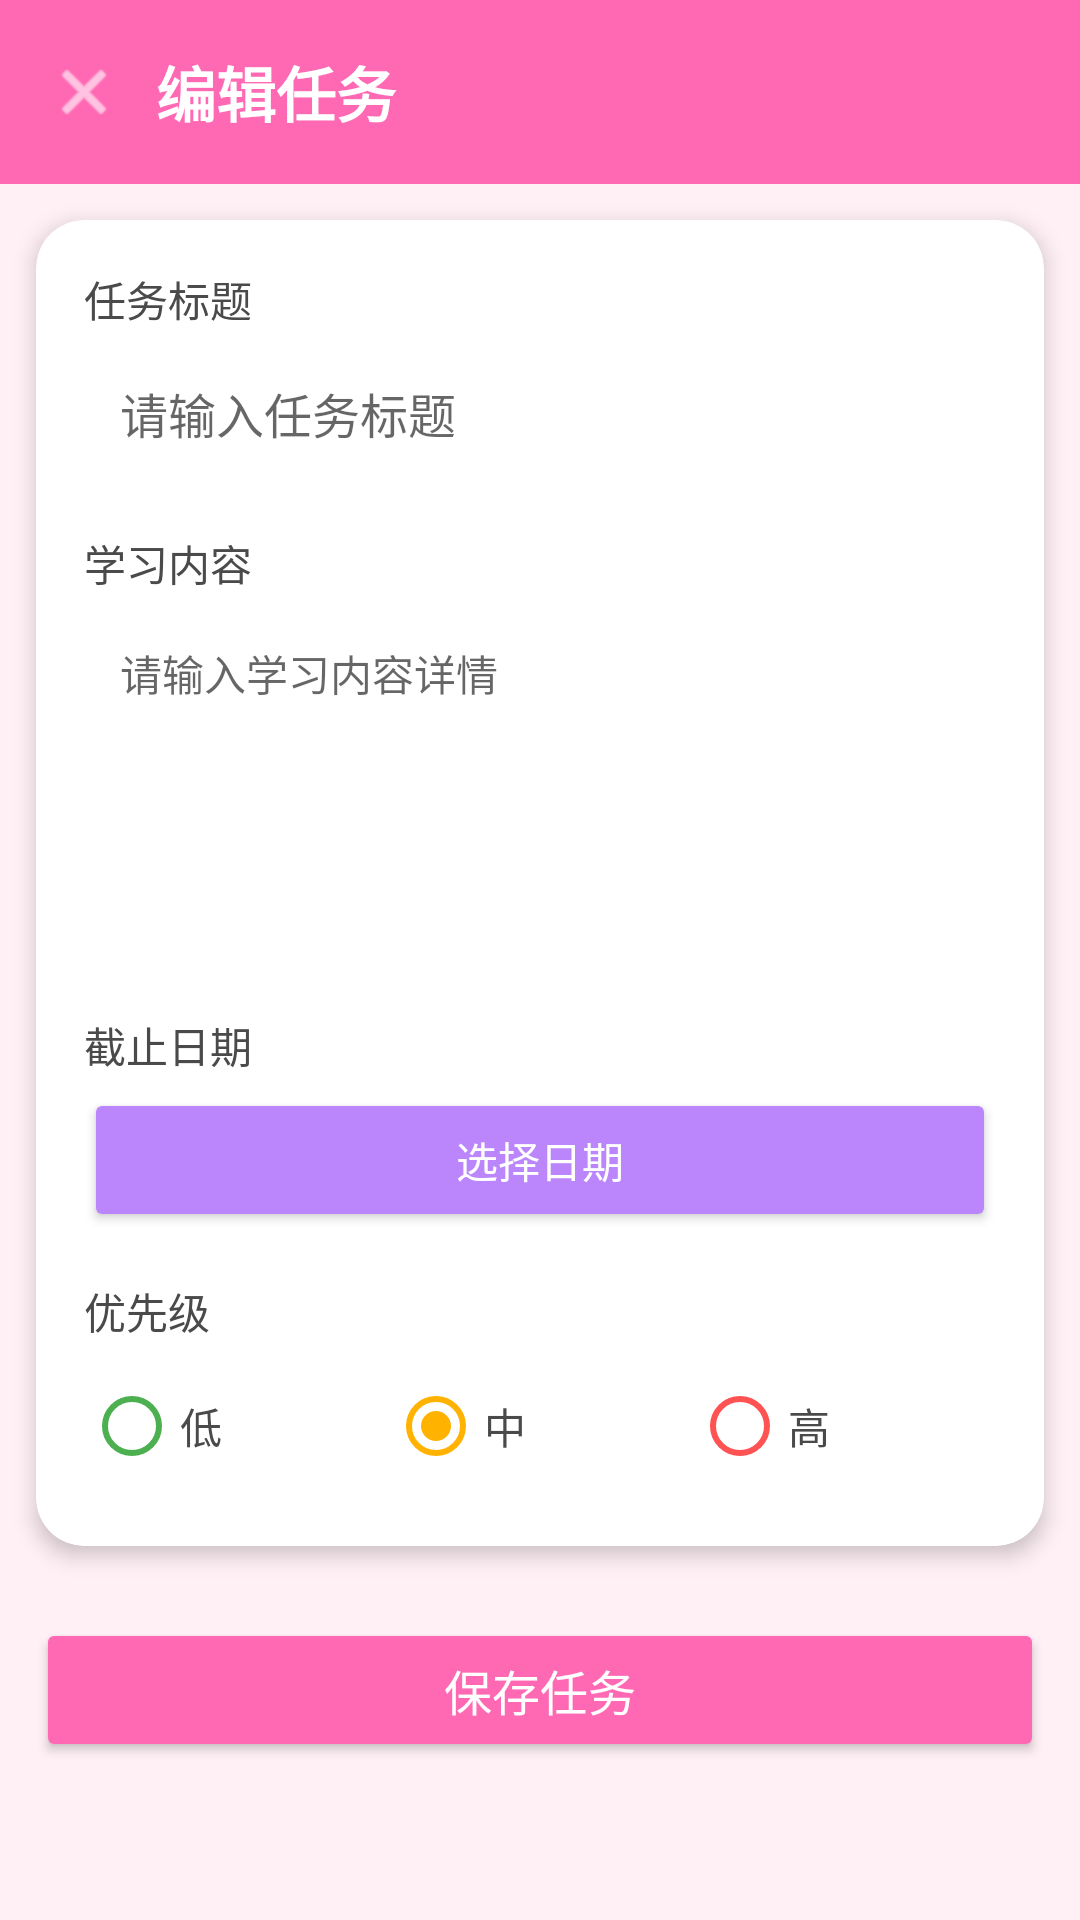

Icons on this 1080x1920 Android screen, each with its box as (x1, y1, x2, y2):
close clear cancel: (62, 70, 106, 114)
